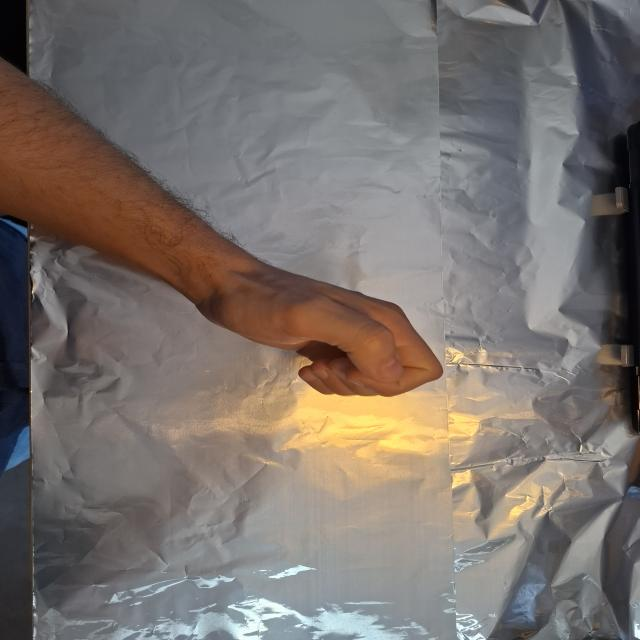glove_off: (191, 262, 446, 399)
